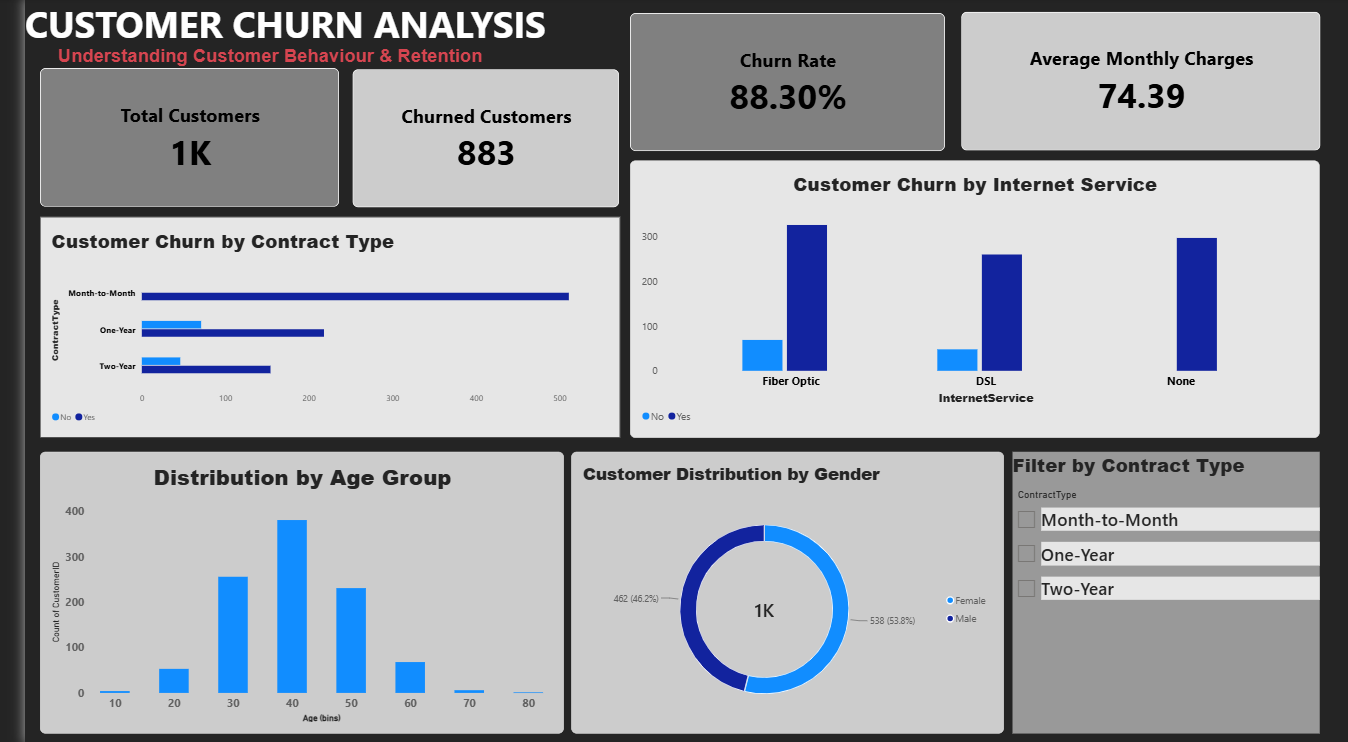

Layout of this report page (visuals, bound fields, positions):
{"tool":"powerbi","page":{"name":"Page 1","canvas":[1920,1080],"ordinal":0},"visuals":[{"type":"cardVisual","fields":{"Data":["customer_churn_data.Total Customers"]},"box":[21.7,101.7,433.3,201.7],"z":0},{"type":"cardVisual","fields":{"Data":["customer_churn_data.Churned Customers"]},"box":[475,103.3,386.7,200],"z":1000},{"type":"cardVisual","fields":{"Data":["customer_churn_data.Churn Rate"]},"box":[876.7,21.7,456.7,200],"z":1001},{"type":"cardVisual","fields":{"Data":["customer_churn_data.Average Monthly Charges"]},"box":[1355,20,520,201.7],"z":1002},{"type":"clusteredBarChart","title":"Customer Churn by Contract Type","fields":{"Category":["customer_churn_data.ContractType"],"Series":["customer_churn_data.Churn"],"Y":["CountNonNull(customer_churn_data.CustomerID)"]},"box":[21.7,316.7,840,320],"z":1003},{"type":"clusteredColumnChart","title":"Customer Churn by Internet Service","fields":{"Category":["customer_churn_data.InternetService"],"Series":["customer_churn_data.Churn"],"Y":["CountNonNull(customer_churn_data.CustomerID)"]},"box":[876.7,235,998.3,401.7],"z":1004},{"type":"donutChart","title":"Customer Distribution by Gender","fields":{"Category":["customer_churn_data.Gender"],"Y":["CountNonNull(customer_churn_data.CustomerID)"]},"box":[791.7,656.7,626.7,408.3],"z":1005},{"type":"clusteredColumnChart","title":"Distribution by Age Group","fields":{"Category":["customer_churn_data.Age (bins)"],"Y":["CountNonNull(customer_churn_data.CustomerID)"]},"box":[21.7,656.7,758.3,408.3],"z":1006},{"type":"slicer","title":"Filter by Contract Type","fields":{"Values":["customer_churn_data.ContractType"]},"box":[1430,656.7,445,408.3],"z":1007},{"type":"textbox","box":[0,0,780,135],"z":1008},{"type":"textbox","box":[553,0,156,150],"z":1009},{"type":"textbox","box":[0,930,780,150],"z":1010},{"type":"textbox","box":[0,930,780,150],"z":1011},{"type":"textbox","box":[0,930,780,150],"z":1012},{"type":"textbox","box":[0,930,780,150],"z":1013},{"type":"textbox","box":[0,68.3,710,66.7],"z":1014}]}

Visuals, with their boxes in screenshot pixels (x1, y1, x2, y2), scaled from the page's 1920x1080 canvas onto the 1348x742 screenshot:
cardVisual - customer_churn_data.Total Customers: 15/70/319/208
cardVisual - customer_churn_data.Churned Customers: 333/71/605/208
cardVisual - customer_churn_data.Churn Rate: 616/15/936/152
cardVisual - customer_churn_data.Average Monthly Charges: 951/14/1316/152
"Customer Churn by Contract Type" clusteredBarChart: 15/218/605/437
"Customer Churn by Internet Service" clusteredColumnChart: 616/161/1316/437
"Customer Distribution by Gender" donutChart: 556/451/996/732
"Distribution by Age Group" clusteredColumnChart: 15/451/548/732
"Filter by Contract Type" slicer: 1004/451/1316/732
textbox: 0/0/548/93
textbox: 388/0/498/103
textbox: 0/639/548/741
textbox: 0/639/548/741
textbox: 0/639/548/741
textbox: 0/639/548/741
textbox: 0/47/498/93
